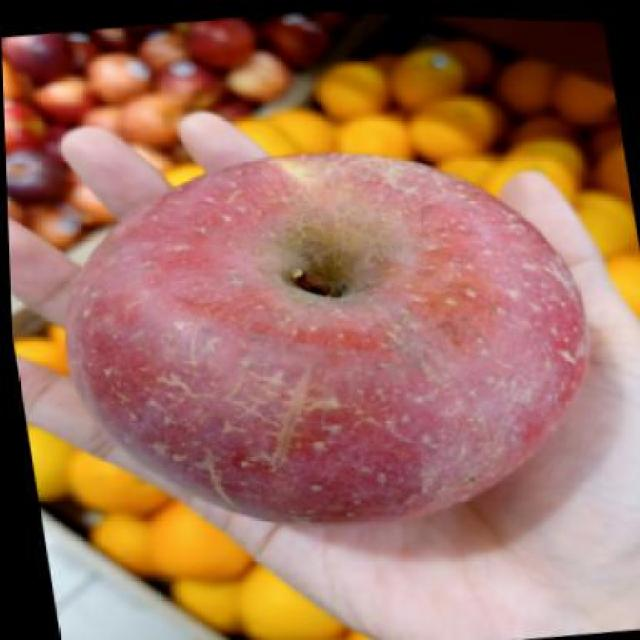Fresh Apple: (67, 159, 578, 523)
